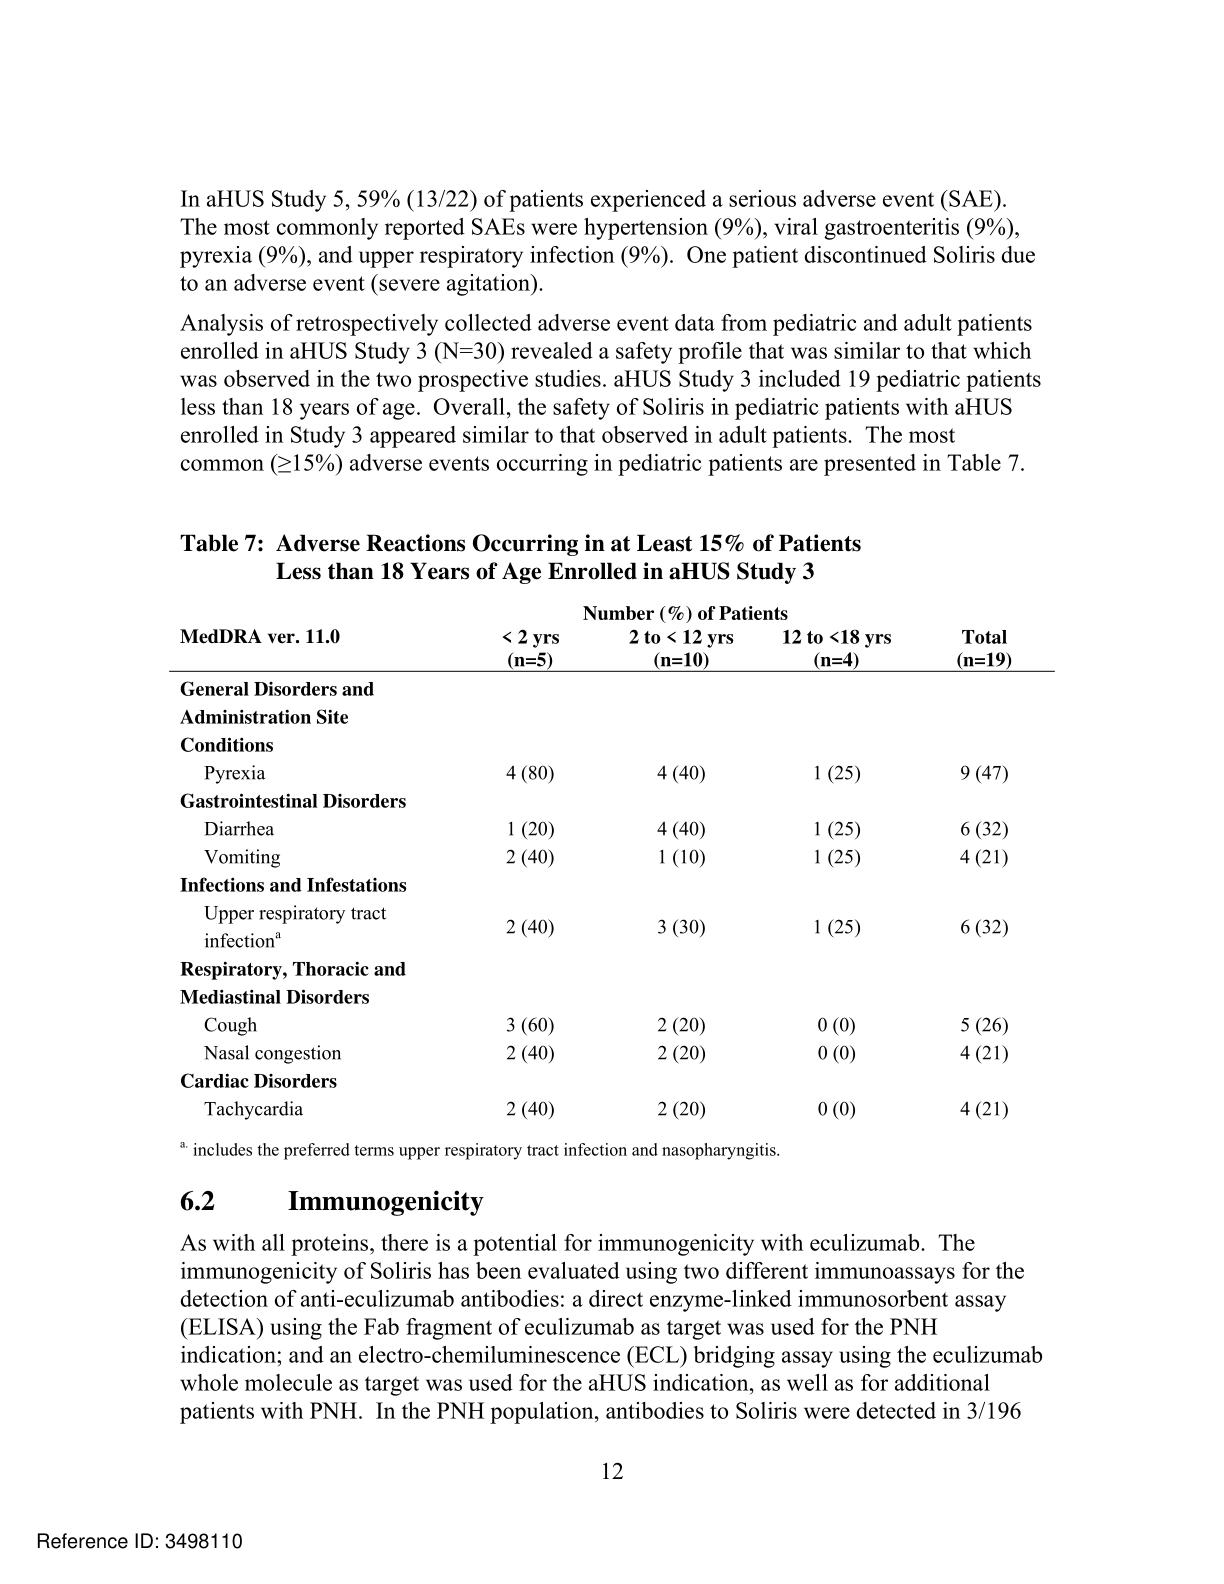partial_lined_merged_cells: (168, 606, 1057, 1121)
